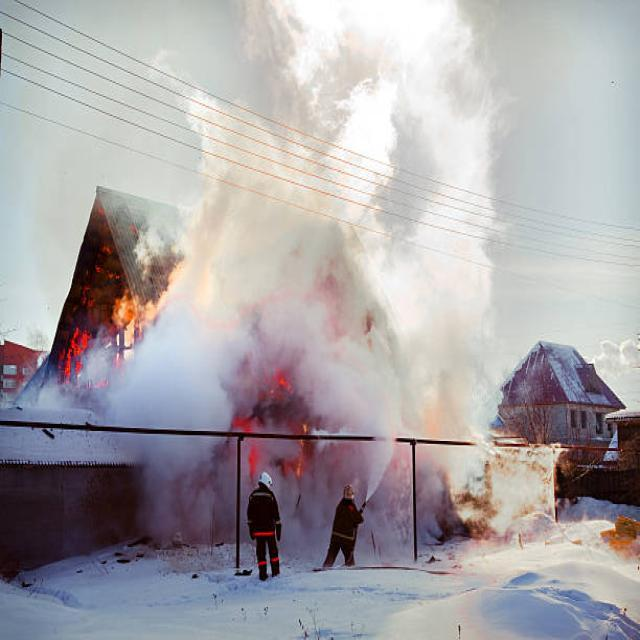Fire: (230, 360, 334, 482), (102, 278, 156, 342)
Smoke: (184, 104, 485, 447)
